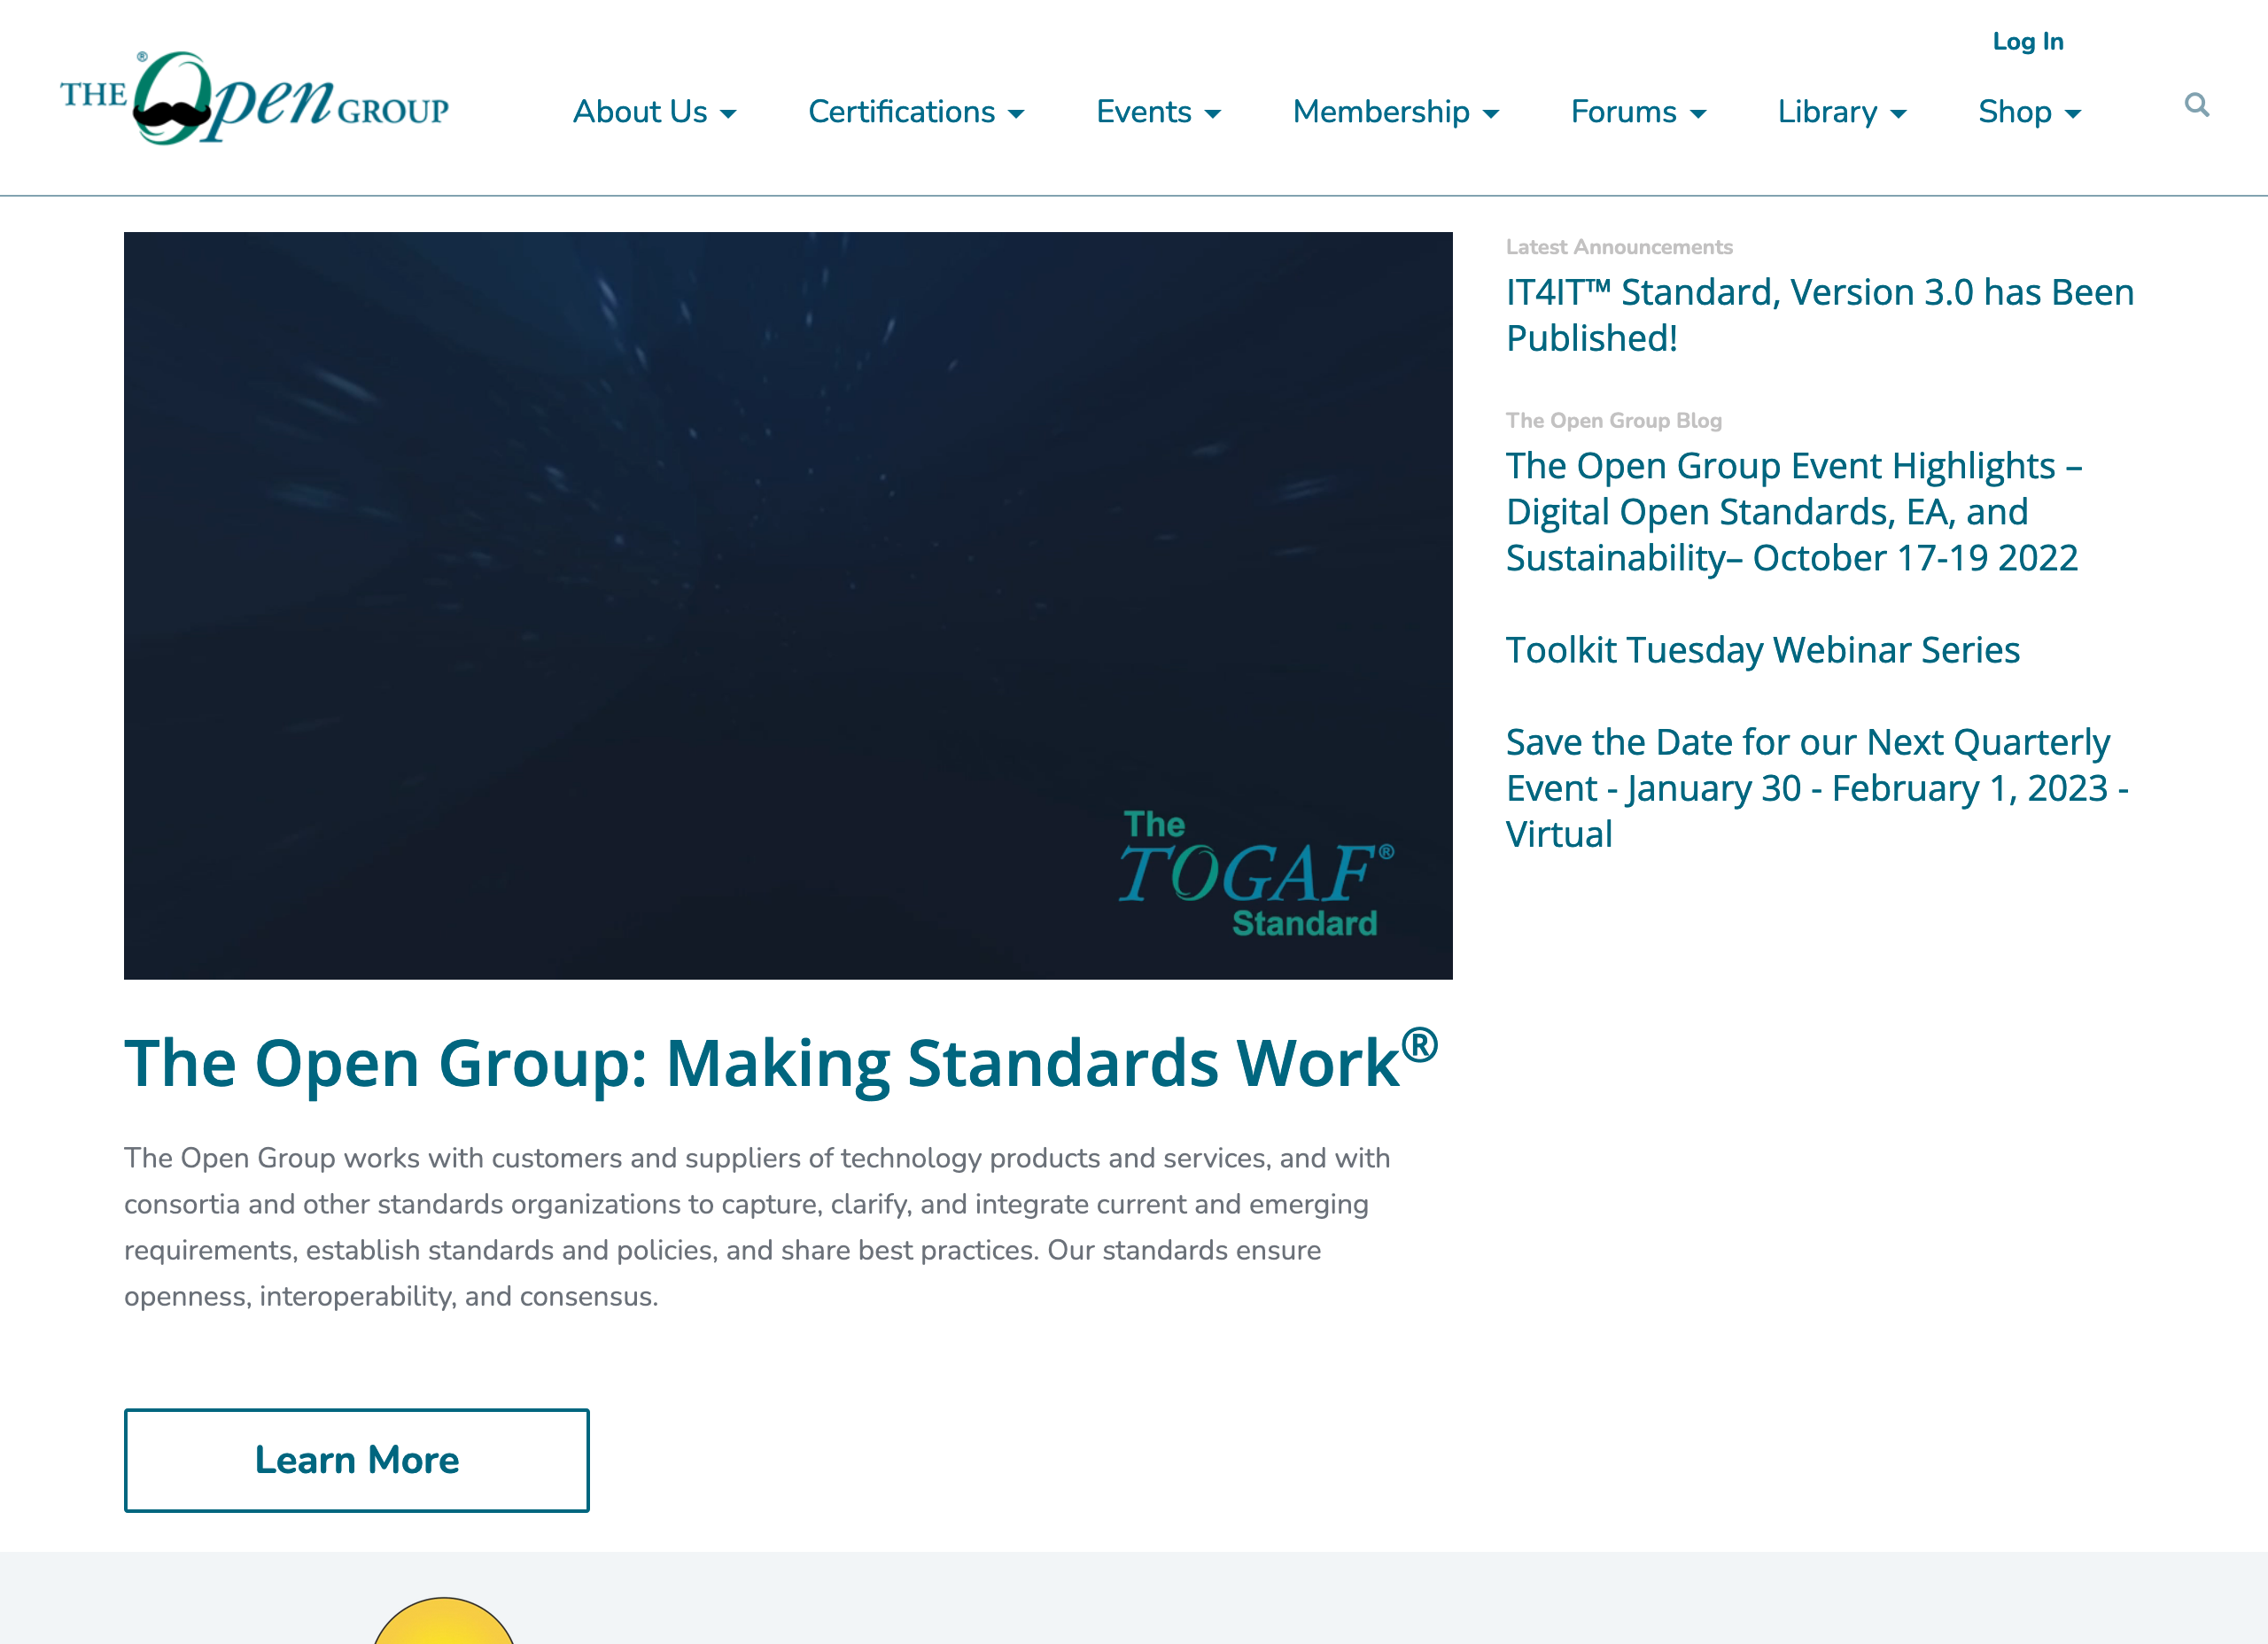Login: (1979, 21, 2083, 69)
